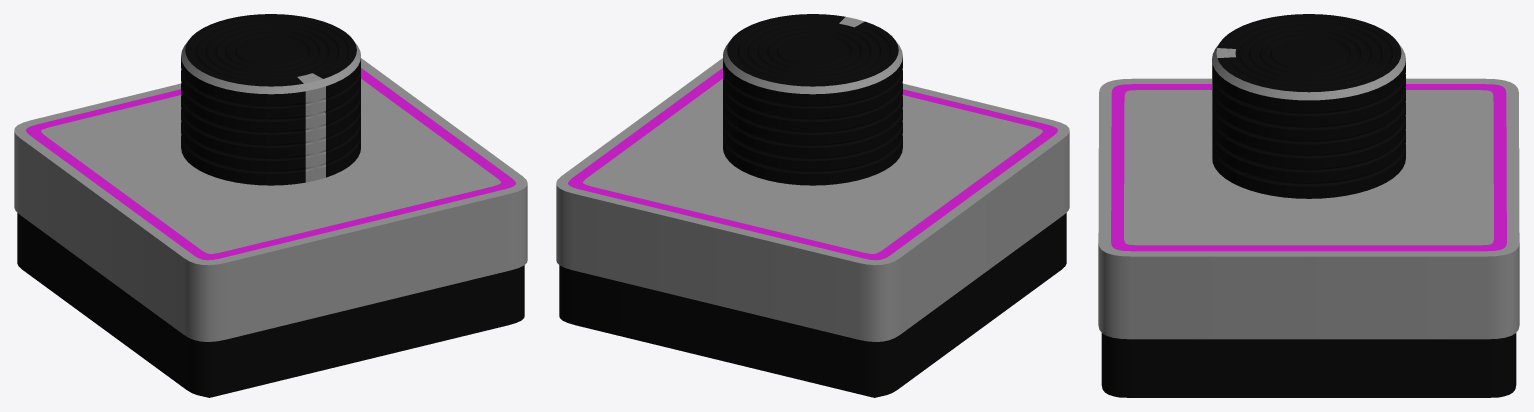
The model's file is m_PAL_Dial.FBX.
3 views of the same model, side by side, from view 1: azimuth 30°, elevation 25°; view 2: azimuth 150°, elevation 25°; view 3: azimuth 270°, elevation 25° (orthographic). The views are drawn at different scales.
Parts seen in each view (by area): view 1: pal_silver_Button001, PAL_Button001; view 2: pal_silver_Button001, PAL_Button001; view 3: pal_silver_Button001, PAL_Button001.
Boxes of the visible parts, x1,y1,x2,y2 form: pal_silver_Button001: (14,58,527,397); PAL_Button001: (181,14,360,185); pal_silver_Button001: (556,58,1069,397); PAL_Button001: (723,14,902,185); pal_silver_Button001: (1098,78,1519,397); PAL_Button001: (1212,14,1405,198).
Bounding box in the file's own units: 1.97 × 1.37 × 1.97.
